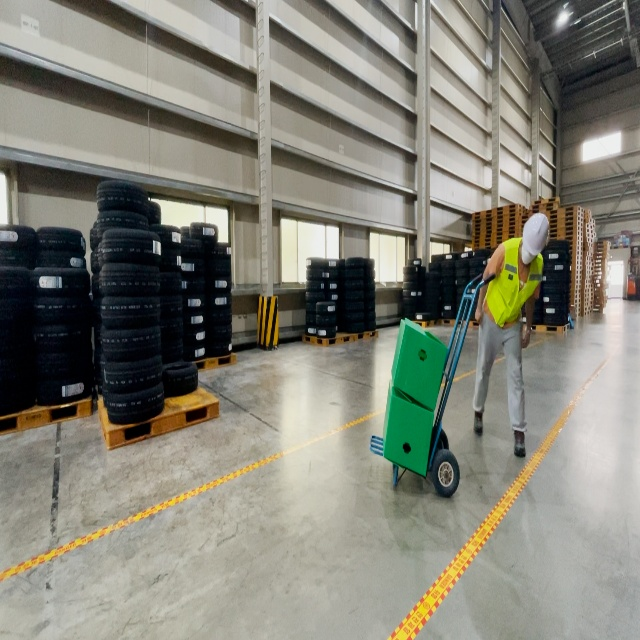Box: (390, 316, 449, 412), (382, 378, 435, 479)
Worker: (472, 212, 551, 460)
